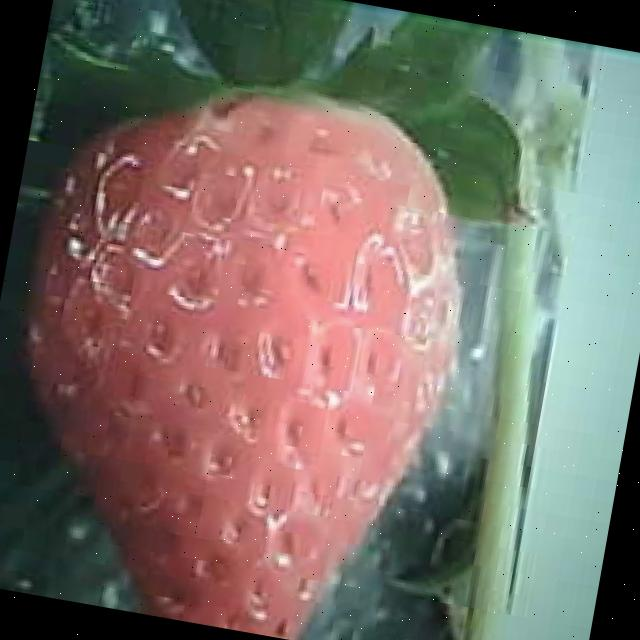strawberry: (0, 49, 491, 640)
